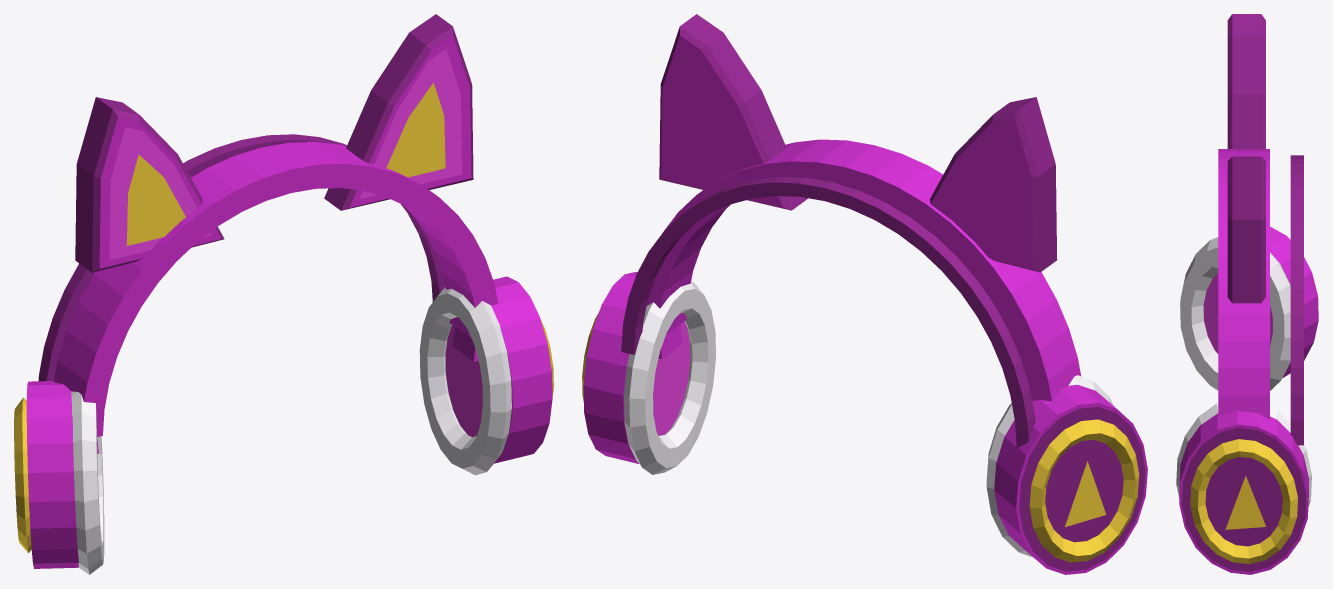
Rendered from fone-gato-low-poly.glb.
3 views of the same model, side by side, from view 1: azimuth 30°, elevation 25°; view 2: azimuth 150°, elevation 25°; view 3: azimuth 270°, elevation 25° (orthographic). The views are drawn at different scales.
Visible parts, largest first — view 1: Arco magenta, Borda magenta da orelha (×2), Concha magenta (×2), Almofada branca (×2), Face rosa da orelha (×2), Interior amarelo da orelha (×2), Arco posterior, Centro rosa da almofada, Aro amarelo externo; view 2: Borda magenta da orelha (×2), Arco magenta, Arco posterior, Concha magenta (×2), Almofada branca (×2), Tampa externa roxa, Aro amarelo externo, Centro rosa da almofada, Detalhe amarelo triangular; view 3: Borda magenta da orelha (×2), Arco magenta, Tampa externa roxa, Almofada branca (×2), Concha magenta (×2), Aro amarelo externo, Arco posterior, Detalhe amarelo triangular, Centro rosa da almofada.
Boxes of the visible parts, box(x1,y1,x2,y2) form: Arco magenta: box(53, 142, 498, 436); Borda magenta da orelha (×2): box(75, 14, 473, 272); Concha magenta (×2): box(26, 276, 552, 568); Almofada branca (×2): box(71, 287, 511, 574); Face rosa da orelha (×2): box(109, 49, 461, 259); Interior amarelo da orelha (×2): box(126, 82, 445, 245); Arco posterior: box(38, 134, 445, 381); Centro rosa da almofada: box(445, 325, 482, 437); Aro amarelo externo: box(14, 397, 31, 552); Borda magenta da orelha (×2): box(659, 14, 1057, 272); Arco magenta: box(646, 139, 1080, 401); Arco posterior: box(621, 177, 1035, 448); Concha magenta (×2): box(583, 272, 1147, 574); Almofada branca (×2): box(624, 281, 1113, 557); Tampa externa roxa: box(1019, 406, 1145, 571); Aro amarelo externo: box(1029, 419, 1139, 562); Centro rosa da almofada: box(653, 321, 690, 435); Detalhe amarelo triangular: box(1065, 461, 1106, 526); Borda magenta da orelha (×2): box(1227, 14, 1265, 303); Arco magenta: box(1218, 149, 1269, 419); Tampa externa roxa: box(1182, 428, 1306, 571); Almofada branca (×2): box(1176, 237, 1311, 507); Concha magenta (×2): box(1179, 226, 1318, 574); Aro amarelo externo: box(1190, 439, 1297, 564); Arco posterior: box(1290, 155, 1303, 445); Detalhe amarelo triangular: box(1225, 475, 1265, 529); Centro rosa da almofada: box(1203, 273, 1272, 353).
Bounding box in the file's own units: 3.91 × 3.28 × 1.07.
